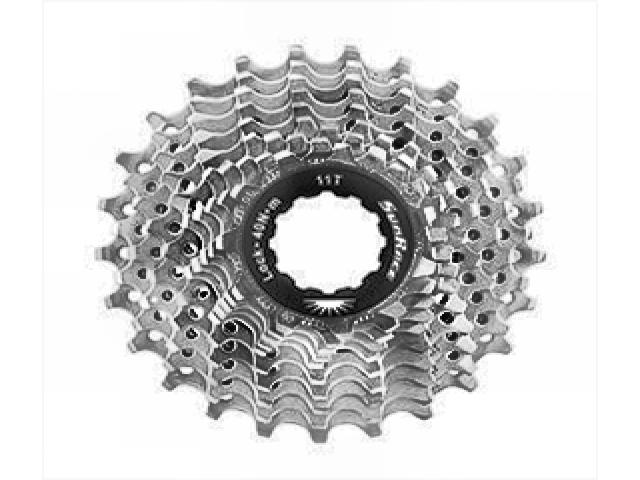cassette: (97, 41, 548, 445)
